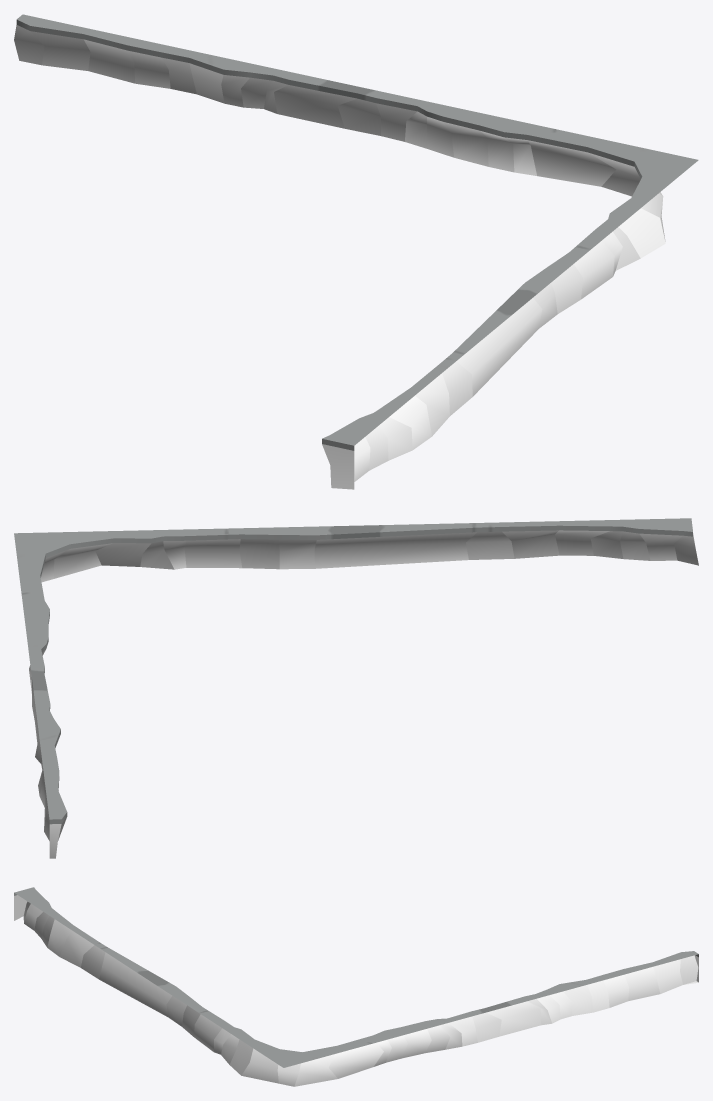
Rendered from Edges to the island area.fbx.
3 renders of one model, top to bottom at view 1: azimuth 30°, elevation 25°; view 2: azimuth 150°, elevation 25°; view 3: azimuth 270°, elevation 25°, orthographic. The views are drawn at different scales.
Visible parts, largest first — view 1: Edge_of_urban_area; view 2: Edge_of_urban_area; view 3: Edge_of_urban_area.
Boxes of the visible parts, x1,y1,x2,y2 form: Edge_of_urban_area: (14, 14, 698, 489); Edge_of_urban_area: (14, 518, 698, 858); Edge_of_urban_area: (14, 887, 698, 1086).
Size of the model in its own units: 6487 by 478 by 10375.
